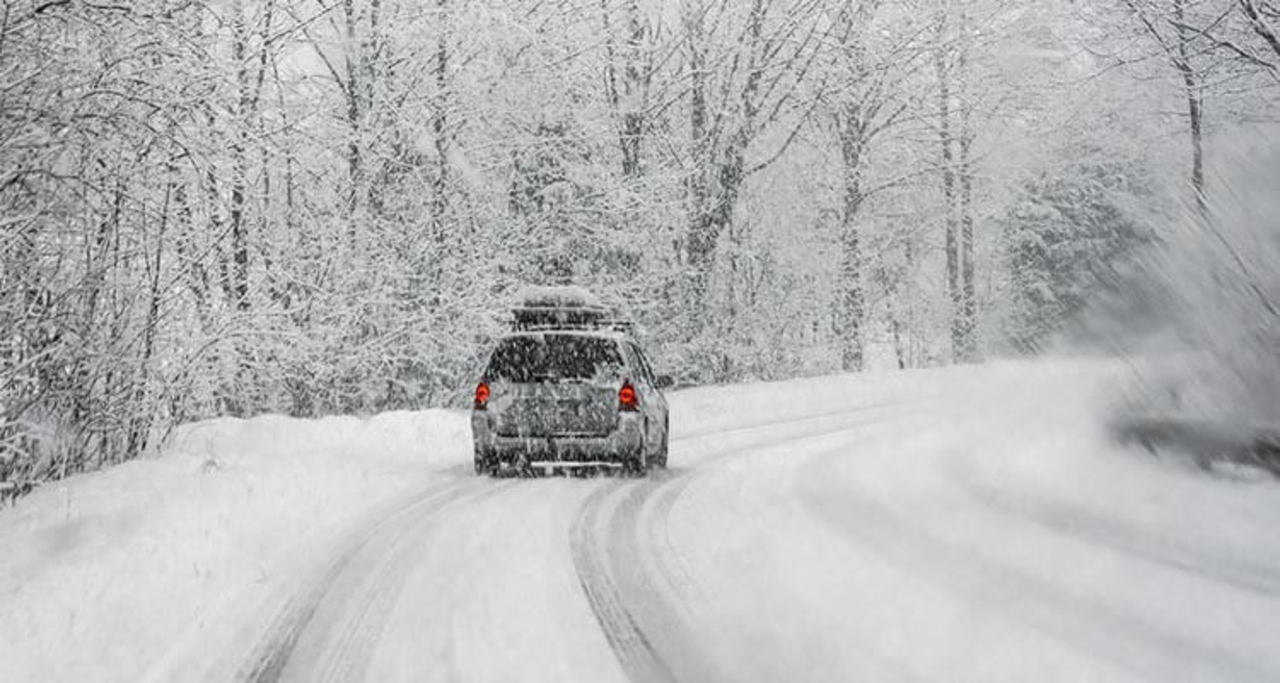car: (466, 321, 676, 480)
